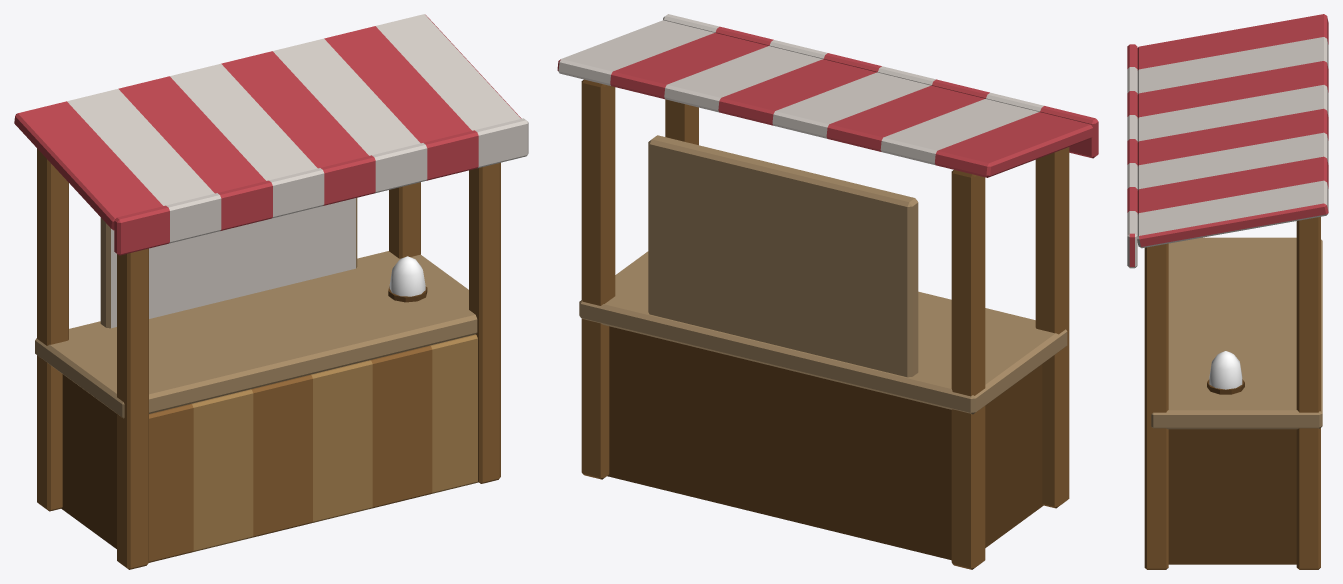
Rendered from upgrade_kiosk.glb.
3 views of the same model, side by side, from view 1: azimuth 30°, elevation 25°; view 2: azimuth 150°, elevation 25°; view 3: azimuth 270°, elevation 25° (orthographic). The views are drawn at different scales.
Parts seen in each view (by area): view 1: UpgradeKiosk; view 2: UpgradeKiosk; view 3: UpgradeKiosk.
Part boxes in pixels (box(x1,y1,x2,y2)): UpgradeKiosk: box(14, 14, 528, 569); UpgradeKiosk: box(557, 14, 1098, 569); UpgradeKiosk: box(1127, 14, 1328, 569).
Size of the model in its own units: 2.62 by 2.39 by 1.16.
